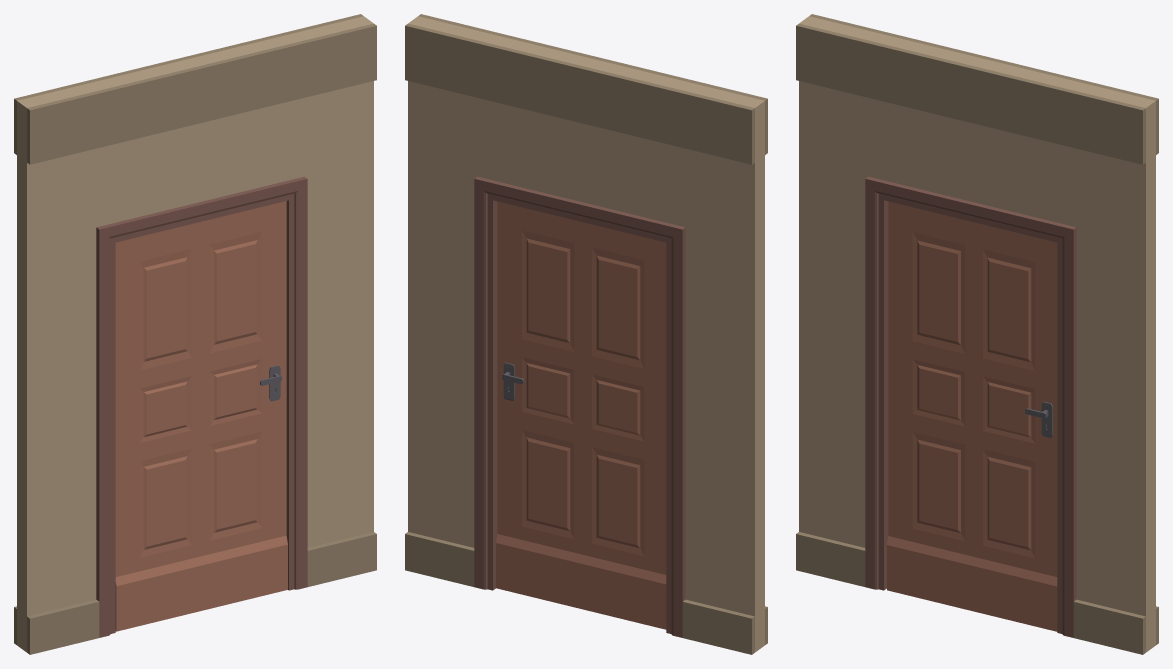
File: Entrada_A.fbx
3 views of the same model, side by side, from view 1: azimuth 30°, elevation 25°; view 2: azimuth 150°, elevation 25°; view 3: azimuth 330°, elevation 25° (orthographic).
Parts seen in each view (by area): view 1: Parede, Porta, Batente; view 2: Parede, Porta, Batente; view 3: Parede, Porta, Batente.
Boxes of the visible parts, bbox=[...] form: Parede: bbox=[14, 14, 376, 654]; Porta: bbox=[115, 201, 287, 631]; Batente: bbox=[96, 176, 307, 637]; Parede: bbox=[405, 14, 767, 654]; Porta: bbox=[496, 201, 666, 629]; Batente: bbox=[474, 176, 685, 637]; Parede: bbox=[796, 14, 1158, 654]; Porta: bbox=[887, 201, 1057, 631]; Batente: bbox=[865, 176, 1076, 637].
Bounding box in the file's own units: 200 × 300 × 17.06.
